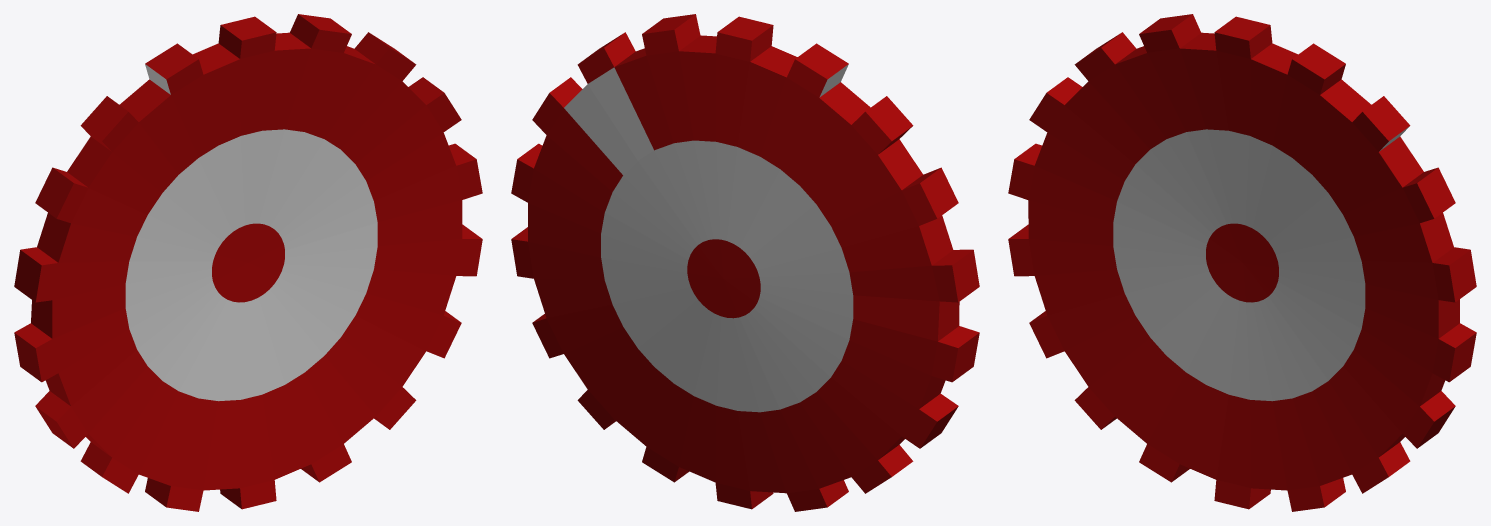
File: Cutter.FBX
3 renders of one model, left to right at view 1: azimuth 30°, elevation 25°; view 2: azimuth 150°, elevation 25°; view 3: azimuth 330°, elevation 25°, orthographic.
Visible parts, largest first — view 1: Cylinder001; view 2: Cylinder001; view 3: Cylinder001.
Boxes of the visible parts, left/top/right/bottom form: Cylinder001: left=14, top=14, right=482, bottom=511; Cylinder001: left=511, top=14, right=979, bottom=511; Cylinder001: left=1008, top=14, right=1476, bottom=511.
Bounding box in the file's own units: 60.72 × 60.83 × 7.66.
